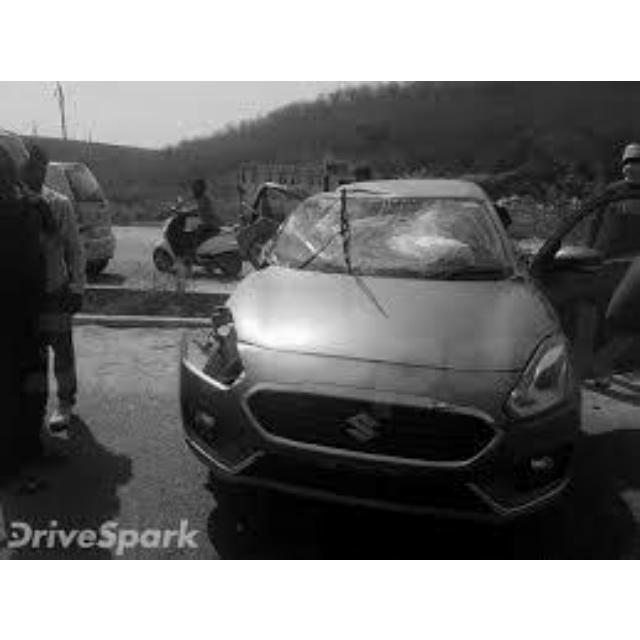Front-windscreen-damage: (272, 187, 516, 278)
Headlight-damage: (178, 303, 252, 394)
